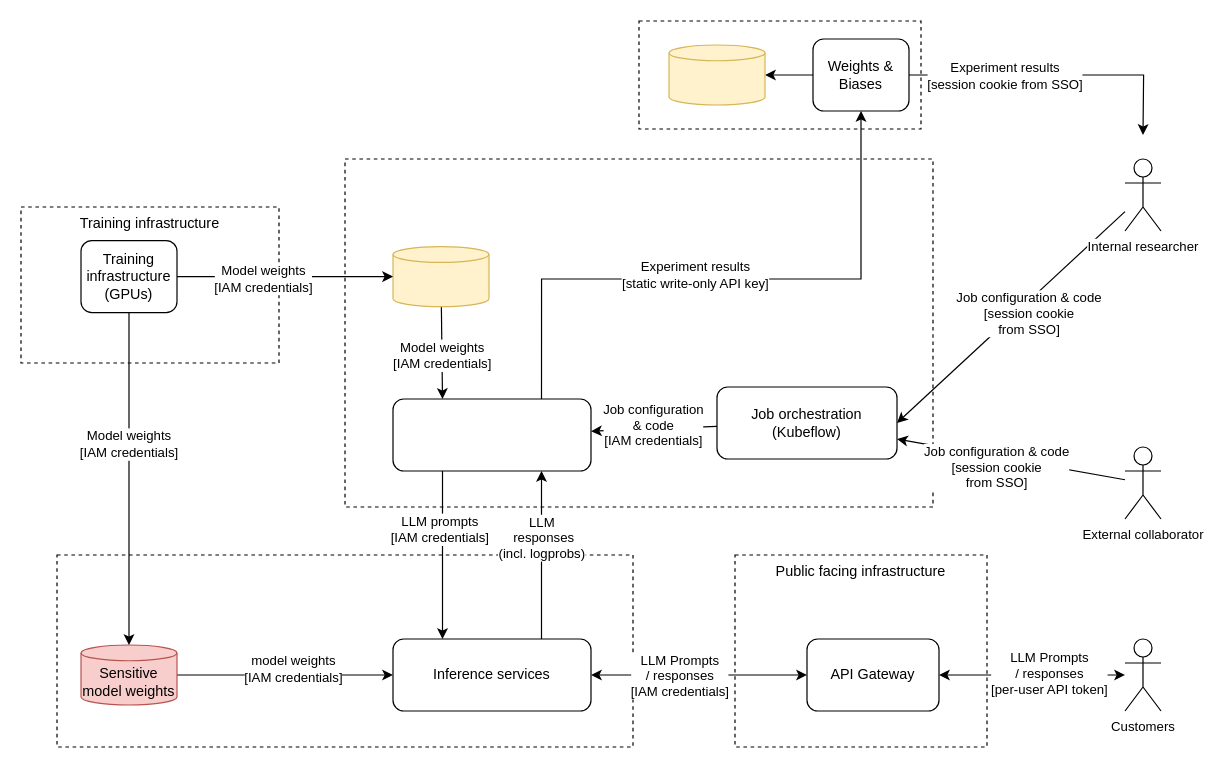
Some shapes in this 1224 by 768 pixel diagram are drawn without their labels. The shapes that lost their labels are listed below. From the top down, each one's box as (x1, y1, x2, y2) in pixels, then its label:
(668, 44, 765, 105): Experiment results
(392, 245, 489, 307): Experimental model weights
(344, 158, 933, 507): Experimentation infrastructure
(392, 398, 591, 471): Evaluation experiment jobs
(56, 554, 633, 747): Sensitive inference infrastructure
